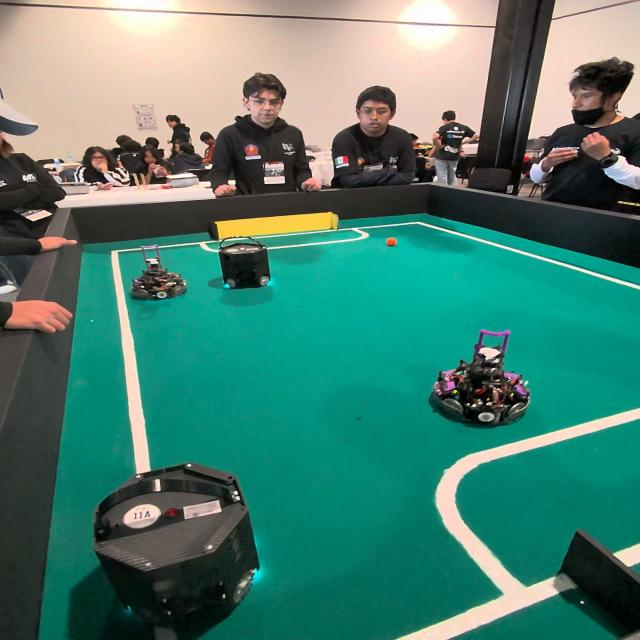Robot: (76, 458, 270, 627), (434, 334, 534, 429), (220, 238, 279, 302), (130, 256, 188, 302)
pelota: (372, 224, 406, 258)
